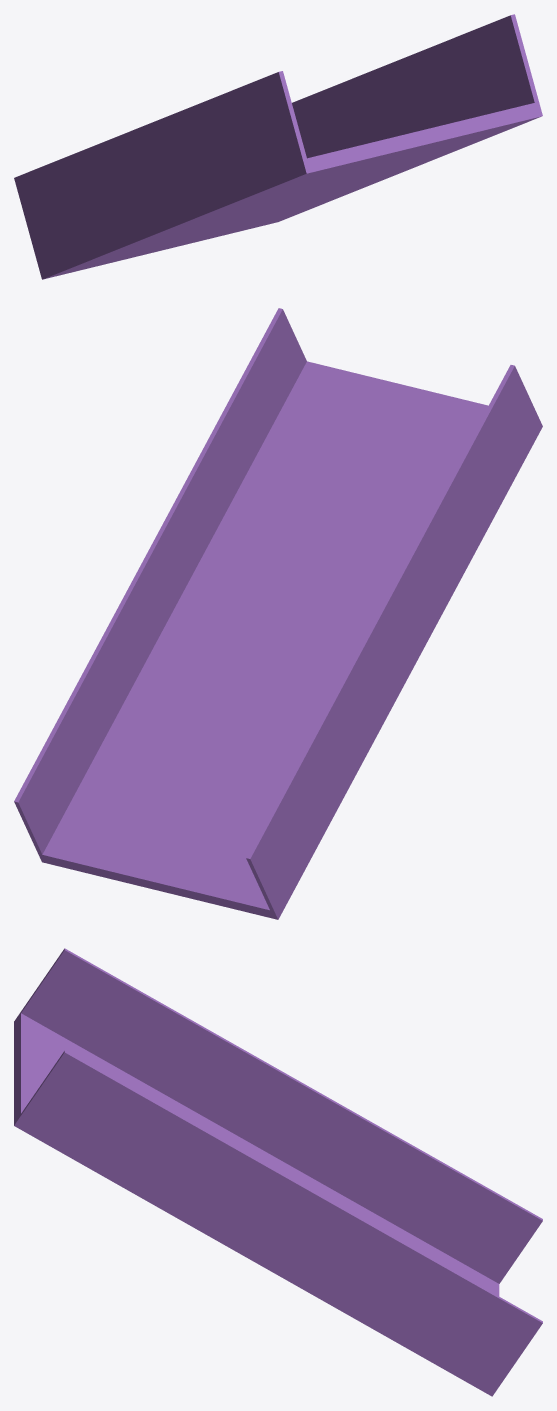
Rendered from climb-skin-6.glb.
3 views of the same model, one above another, from view 1: azimuth 30°, elevation 25°; view 2: azimuth 150°, elevation 25°; view 3: azimuth 270°, elevation 25° (orthographic). The views are drawn at different scales.
Visible parts, largest first — view 1: climb-skin-6; view 2: climb-skin-6; view 3: climb-skin-6.
Part boxes in pixels (box(x1,y1,x2,y2)): climb-skin-6: box(14, 14, 542, 279); climb-skin-6: box(14, 308, 542, 919); climb-skin-6: box(14, 948, 542, 1396).
Bounding box in the file's own units: 3.3 × 5.09 × 7.08.
Materials: 1 (1 with a texture image).
